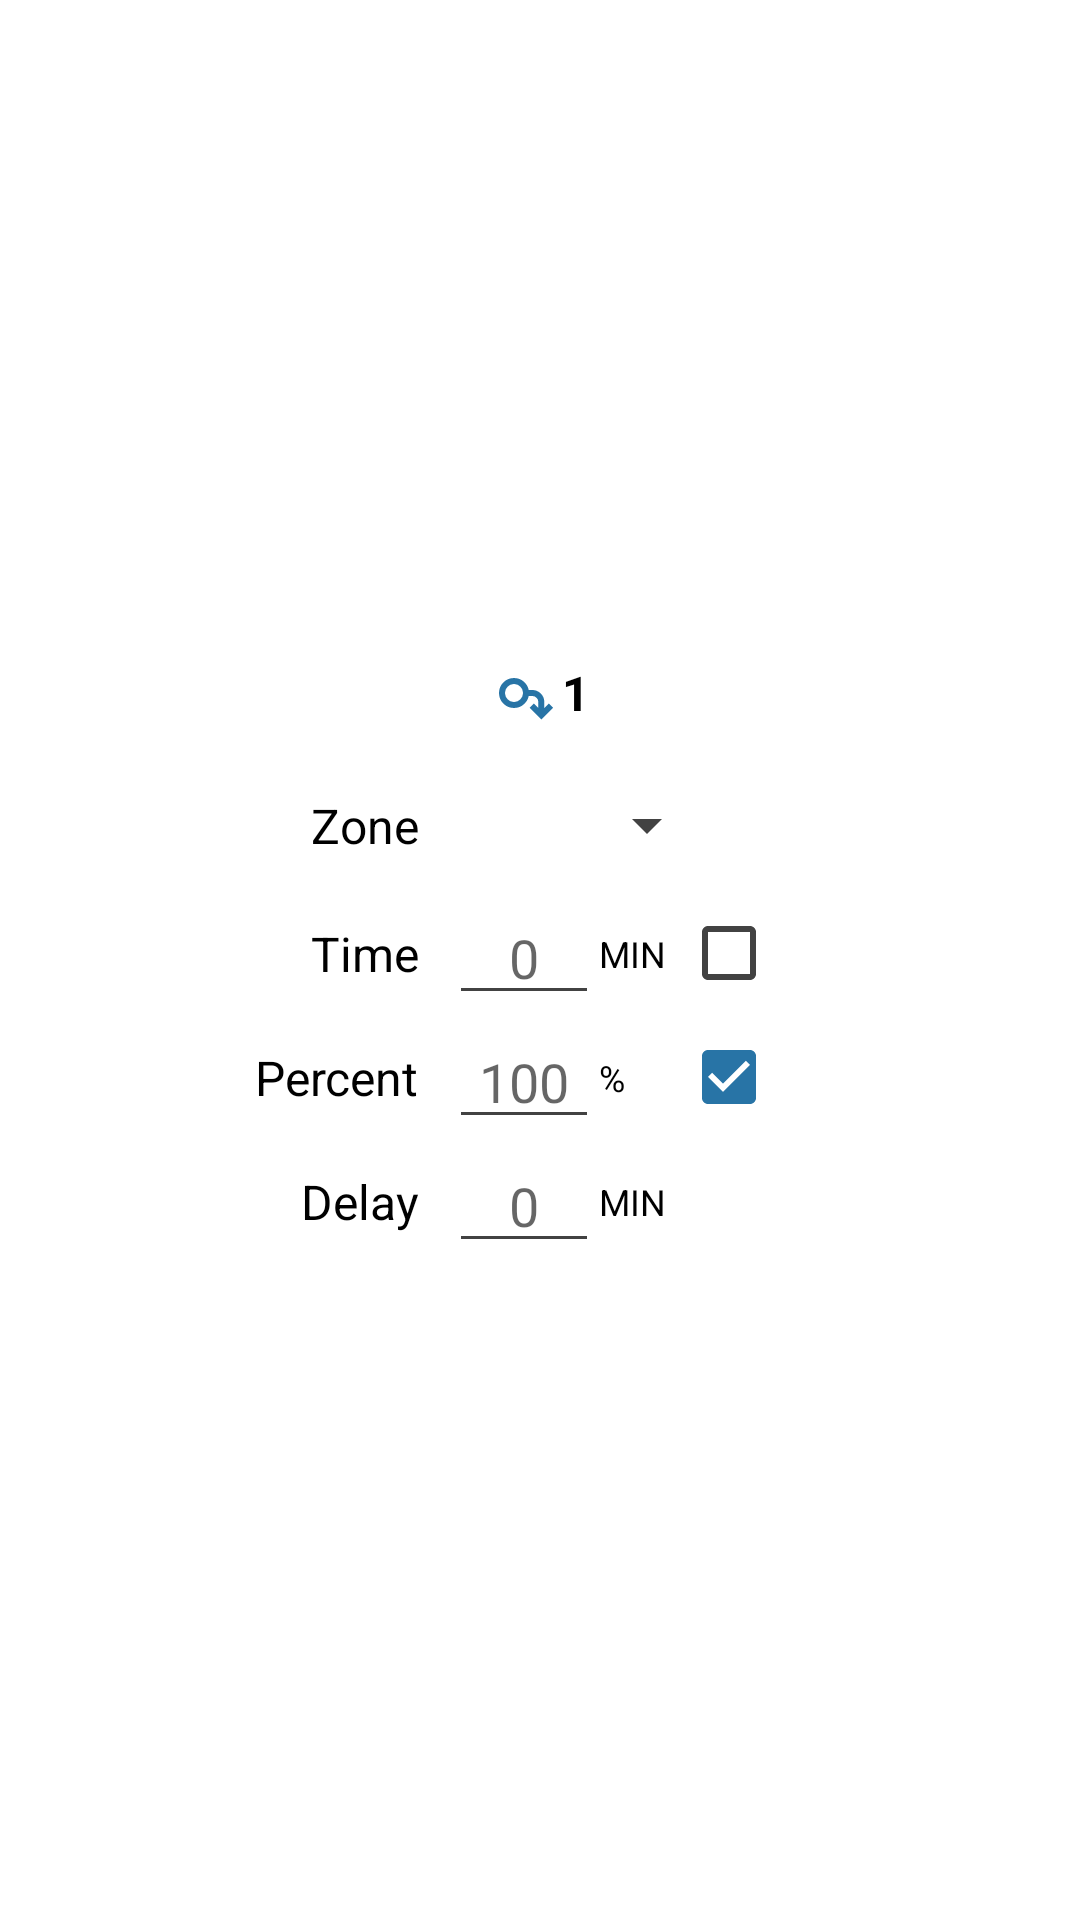

Named icons in this screenshot (1080w x 1920h) and their centers, [x,y]:
step: [526,699]
